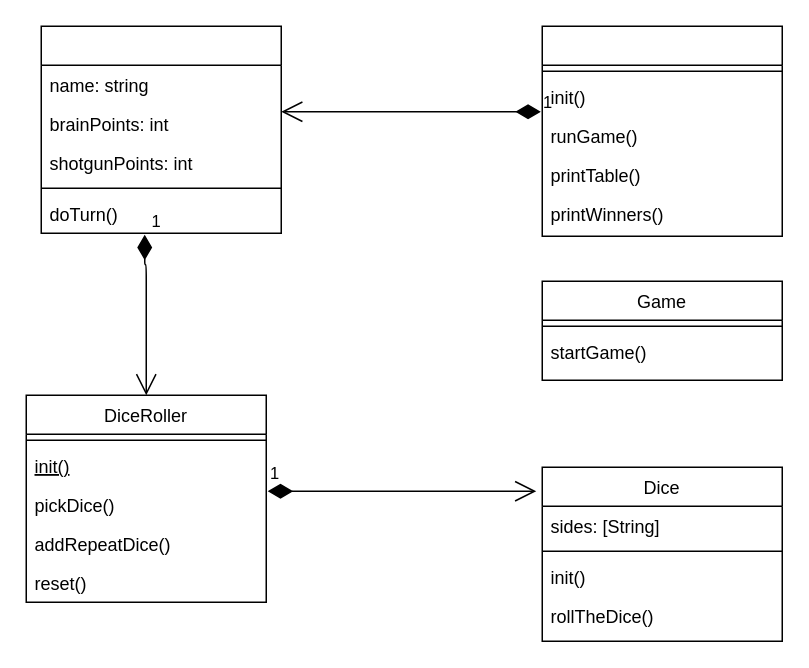
This 809x668 diagram has some shape labels left out. Here are the shapes that lost their labels. From the top down, the box of each, then its label:
(40, 25, 281, 233): Player
(541, 25, 782, 236): GameLogic
